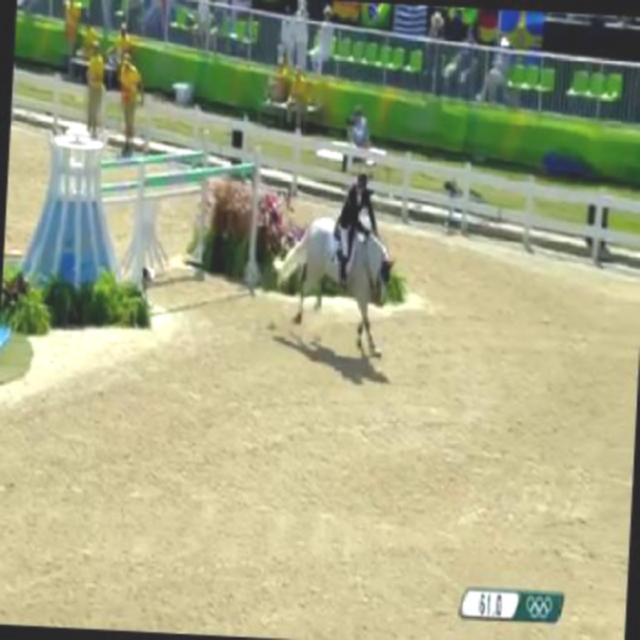non-fight: (268, 170, 400, 364)
